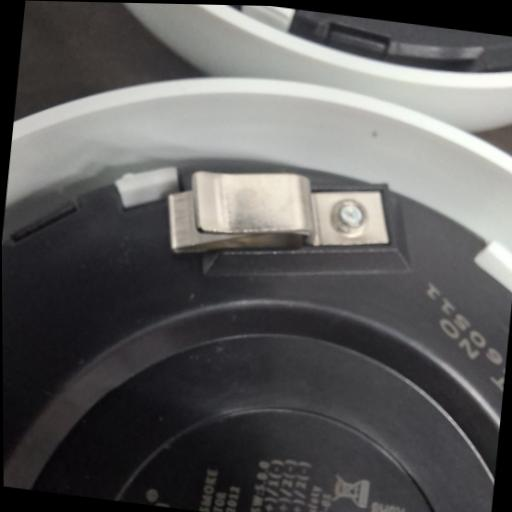yayli: (159, 156, 396, 281)
